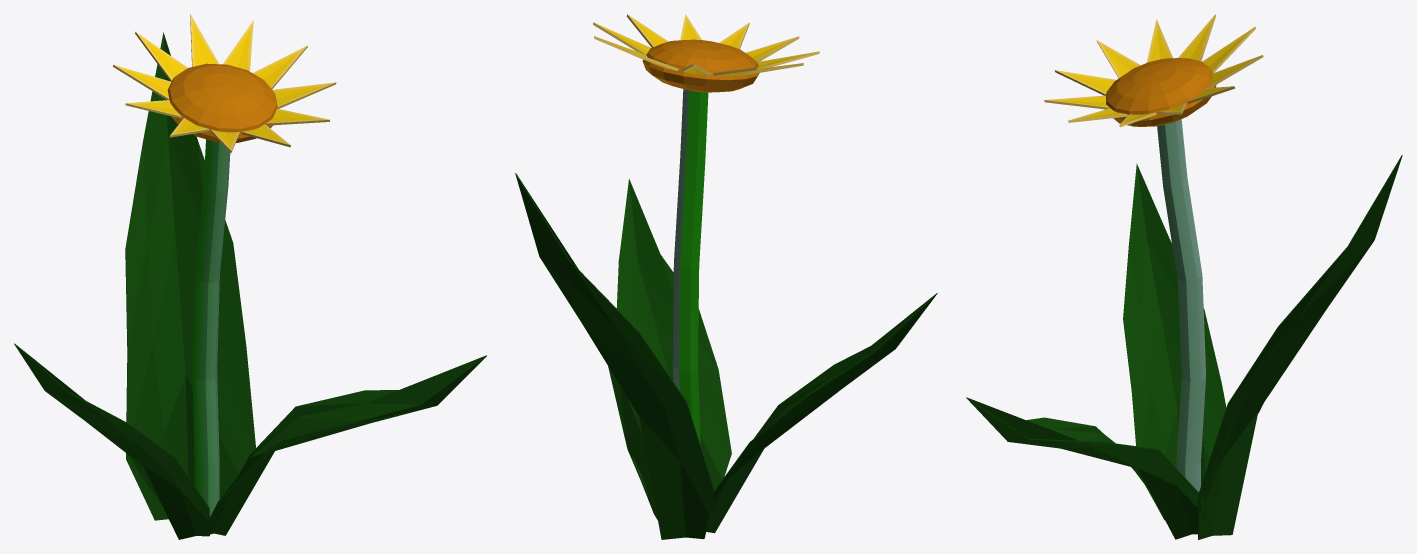
File: Flower.fbx
3 views of the same model, side by side, from view 1: azimuth 30°, elevation 25°; view 2: azimuth 150°, elevation 25°; view 3: azimuth 270°, elevation 25° (orthographic).
Visible parts, largest first — view 1: Plane.004; view 2: Plane.004; view 3: Plane.004.
Boxes of the visible parts, x1,y1,x2,y2 form: Plane.004: (14, 14, 486, 539); Plane.004: (515, 14, 937, 539); Plane.004: (966, 14, 1402, 539).
Bounding box in the file's own units: 586 × 704 × 569.
1 material, 1 textured.
